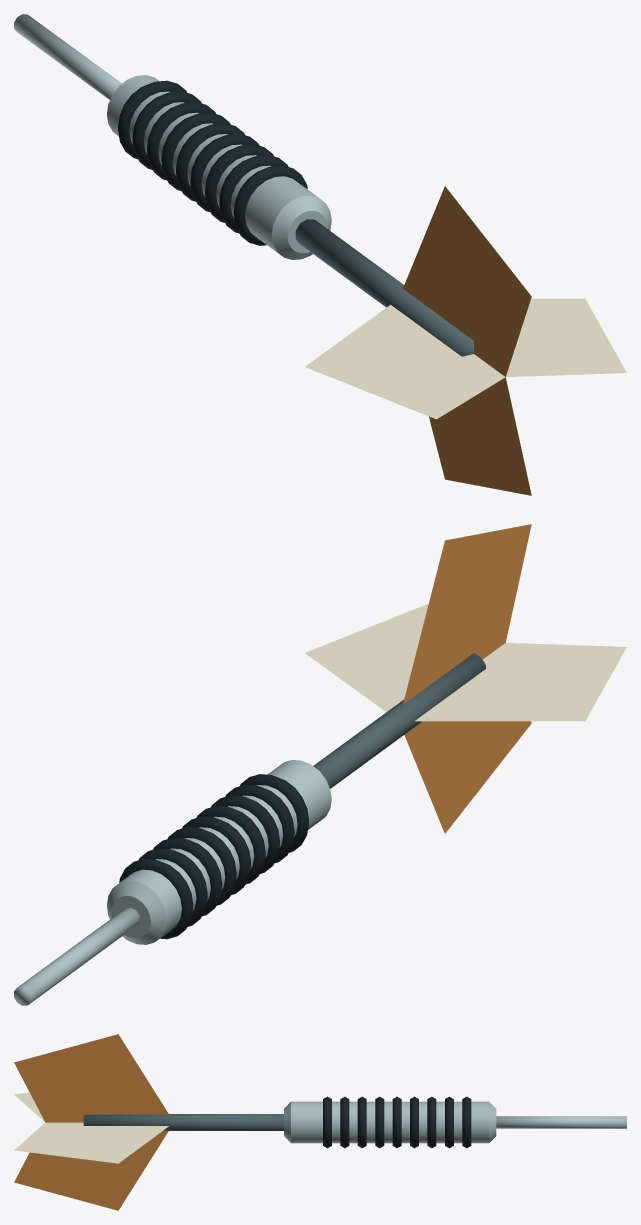
The model's file is club-dart.glb.
3 renders of one model, top to bottom at view 1: azimuth 30°, elevation 25°; view 2: azimuth 150°, elevation 25°; view 3: azimuth 270°, elevation 25°, orthographic. The views are drawn at different scales.
Parts seen in each view (by area): view 1: Moulded flight.001, Moulded flight.002, Tungsten barrel, Moulded flight.003, Moulded flight, Flight stem, Steel point, Barrel grip ring.008, Barrel grip ring.001, Barrel grip ring.003, Barrel grip ring.002, Barrel grip ring.005 (+4 smaller); view 2: Moulded flight.001, Moulded flight.002, Tungsten barrel, Moulded flight.003, Moulded flight, Flight stem, Steel point, Barrel grip ring, Barrel grip ring.002, Barrel grip ring.001, Barrel grip ring.003, Barrel grip ring.008 (+4 smaller); view 3: Moulded flight.001, Tungsten barrel, Moulded flight.003, Moulded flight, Flight stem, Steel point, Barrel grip ring, Barrel grip ring.002, Barrel grip ring.004, Barrel grip ring.005, Barrel grip ring.006, Barrel grip ring.007 (+4 smaller).
Boxes of the visible parts, box(x1,y1,x2,y2) form: Moulded flight.001: box(403, 186, 531, 376); Moulded flight.002: box(305, 304, 505, 419); Tungsten barrel: box(107, 75, 331, 259); Moulded flight.003: box(429, 377, 531, 495); Moulded flight: box(506, 298, 626, 377); Flight stem: box(295, 219, 473, 356); Steel point: box(14, 14, 121, 99); Barrel grip ring.008: box(233, 165, 307, 245); Barrel grip ring.001: box(132, 91, 201, 169); Barrel grip ring.003: box(161, 112, 230, 190); Barrel grip ring.002: box(147, 102, 215, 180); Barrel grip ring.005: box(190, 133, 259, 211); Moulded flight.001: box(403, 524, 531, 704); Moulded flight.002: box(415, 642, 626, 721); Tungsten barrel: box(107, 760, 331, 944); Moulded flight.003: box(404, 721, 531, 833); Moulded flight: box(305, 604, 428, 711); Flight stem: box(313, 653, 485, 788); Steel point: box(14, 907, 139, 1005); Barrel grip ring: box(119, 859, 193, 939); Barrel grip ring.002: box(153, 837, 222, 916); Barrel grip ring.001: box(138, 848, 207, 926); Barrel grip ring.003: box(167, 827, 236, 905); Barrel grip ring.008: box(240, 774, 308, 852); Moulded flight.001: box(14, 1034, 168, 1122); Tungsten barrel: box(284, 1101, 496, 1143); Moulded flight.003: box(14, 1122, 168, 1210); Moulded flight: box(14, 1122, 168, 1163); Flight stem: box(83, 1114, 283, 1130); Steel point: box(496, 1116, 626, 1128); Barrel grip ring: box(462, 1096, 471, 1148); Barrel grip ring.002: box(427, 1096, 436, 1148); Barrel grip ring.004: box(392, 1096, 401, 1148); Barrel grip ring.005: box(375, 1096, 384, 1148); Barrel grip ring.006: box(357, 1096, 366, 1148); Barrel grip ring.007: box(340, 1096, 349, 1148).
Size of the model in its own units: 0.056 by 0.056 by 0.176.
